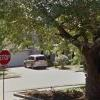Car: (20, 53, 50, 72)
